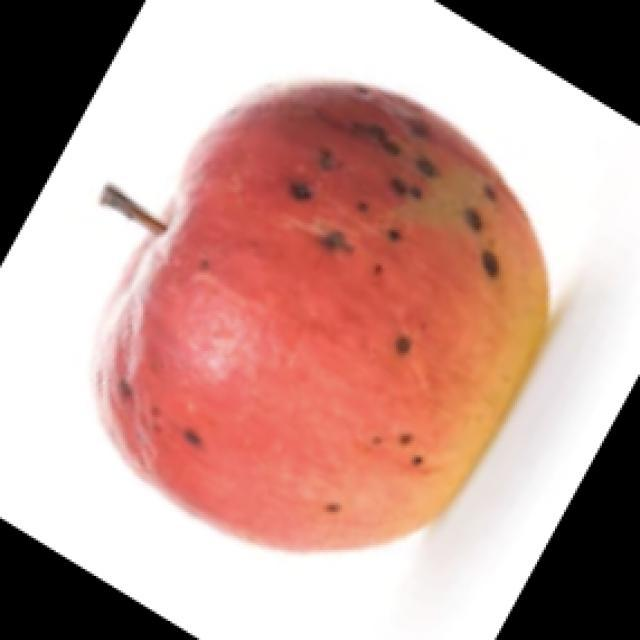Rotten: (138, 92, 540, 563)
